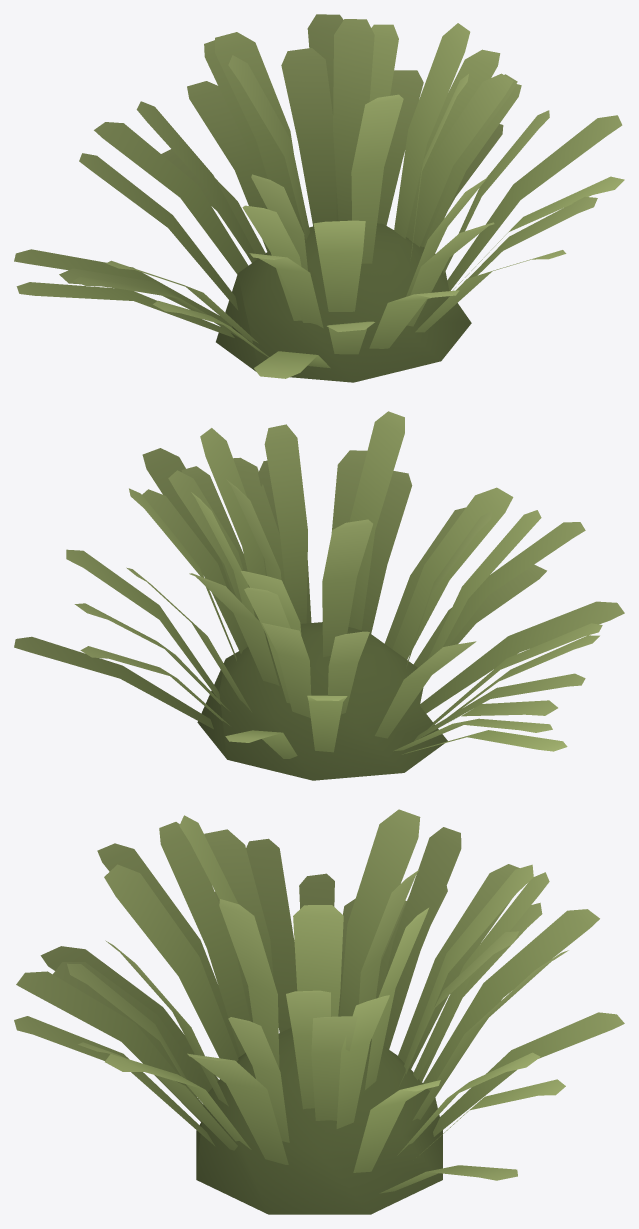
Rendered from tuft-b.glb.
3 renders of one model, top to bottom at view 1: azimuth 30°, elevation 25°; view 2: azimuth 150°, elevation 25°; view 3: azimuth 270°, elevation 25°, orthographic. The views are drawn at different scales.
Parts seen in each view (by area): view 1: tuft_b_grass_tuft; view 2: tuft_b_grass_tuft; view 3: tuft_b_grass_tuft.
Boxes of the visible parts, bbox=[...] form: tuft_b_grass_tuft: bbox=[14, 14, 624, 382]; tuft_b_grass_tuft: bbox=[14, 411, 624, 780]; tuft_b_grass_tuft: bbox=[14, 809, 624, 1214].
Size of the model in its own units: 0.3087 by 0.16 by 0.2716.
